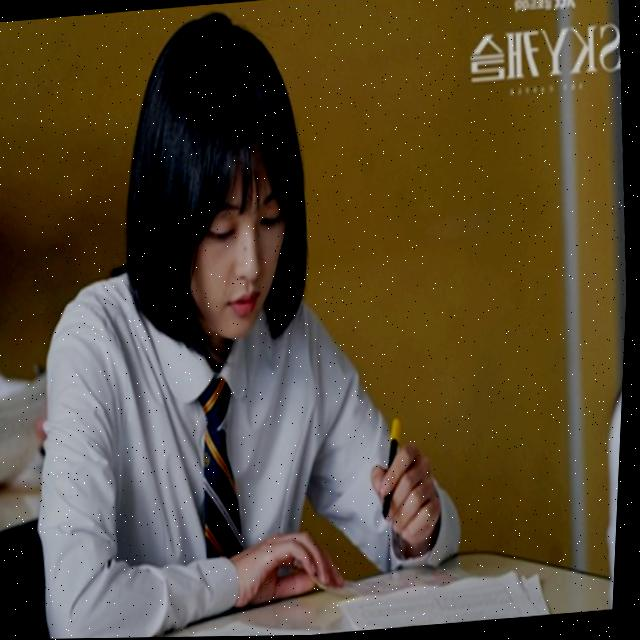studying-person: (33, 1, 473, 639)
